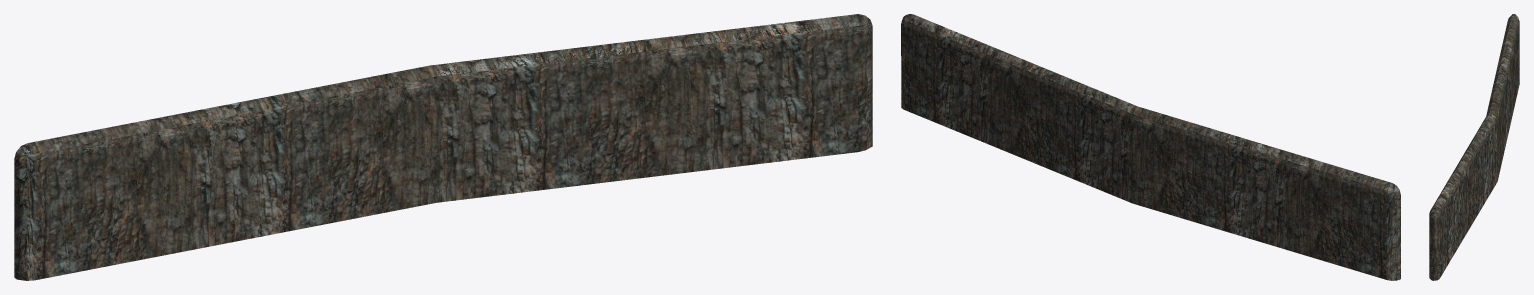
File: zonadinosaurios pared .fbx
3 renders of one model, left to right at view 1: azimuth 30°, elevation 25°; view 2: azimuth 150°, elevation 25°; view 3: azimuth 270°, elevation 25°, orthographic. The views are drawn at different scales.
Parts seen in each view (by area): view 1: Cube; view 2: Cube; view 3: Cube.
Boxes of the visible parts, x1,y1,x2,y2 form: Cube: [14, 14, 872, 280]; Cube: [901, 14, 1400, 280]; Cube: [1429, 14, 1519, 280].
Bounding box in the file's own units: 7815 × 1262 × 1492.
Materials: 1 (1 with a texture image).
